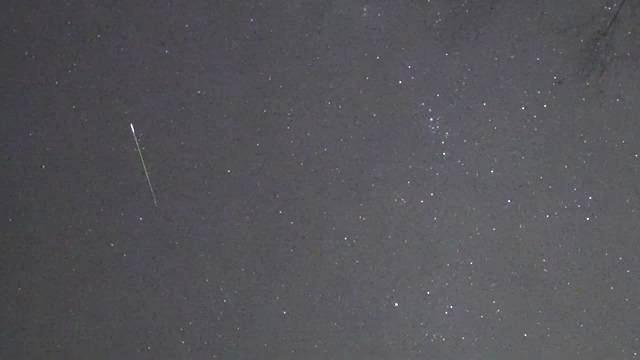meteorite: (114, 115, 167, 217)
